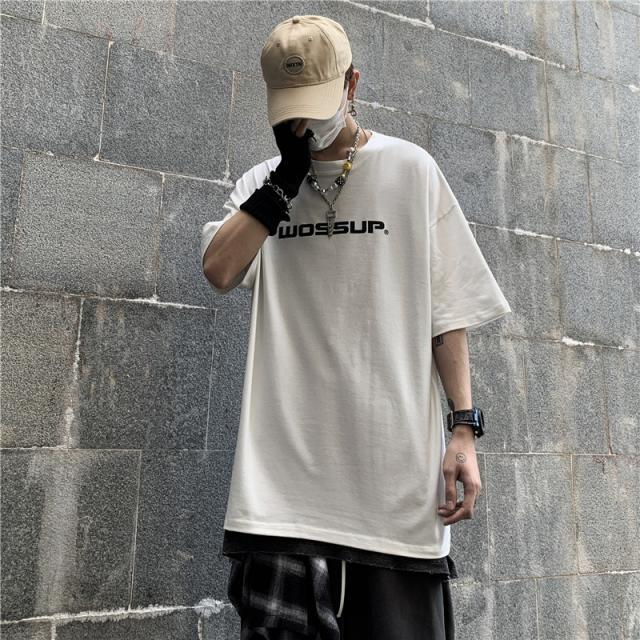Shirt: (206, 128, 516, 564)
